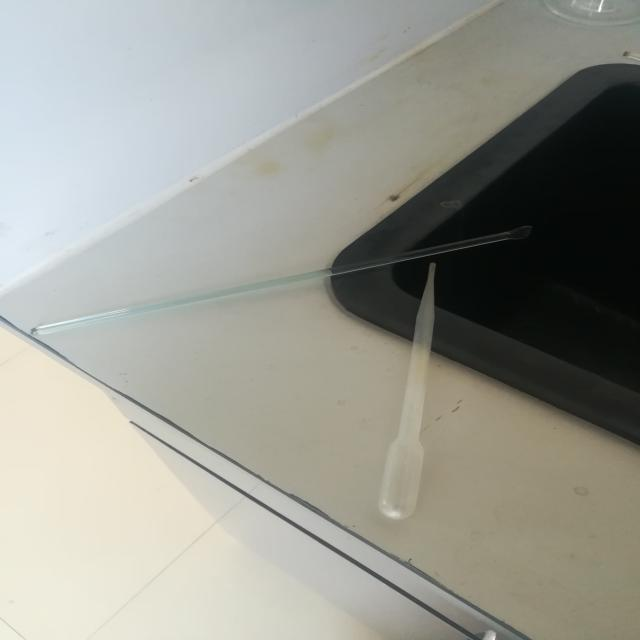Glass_Rod: (0, 202, 571, 351)
Pipette: (344, 263, 480, 550)
